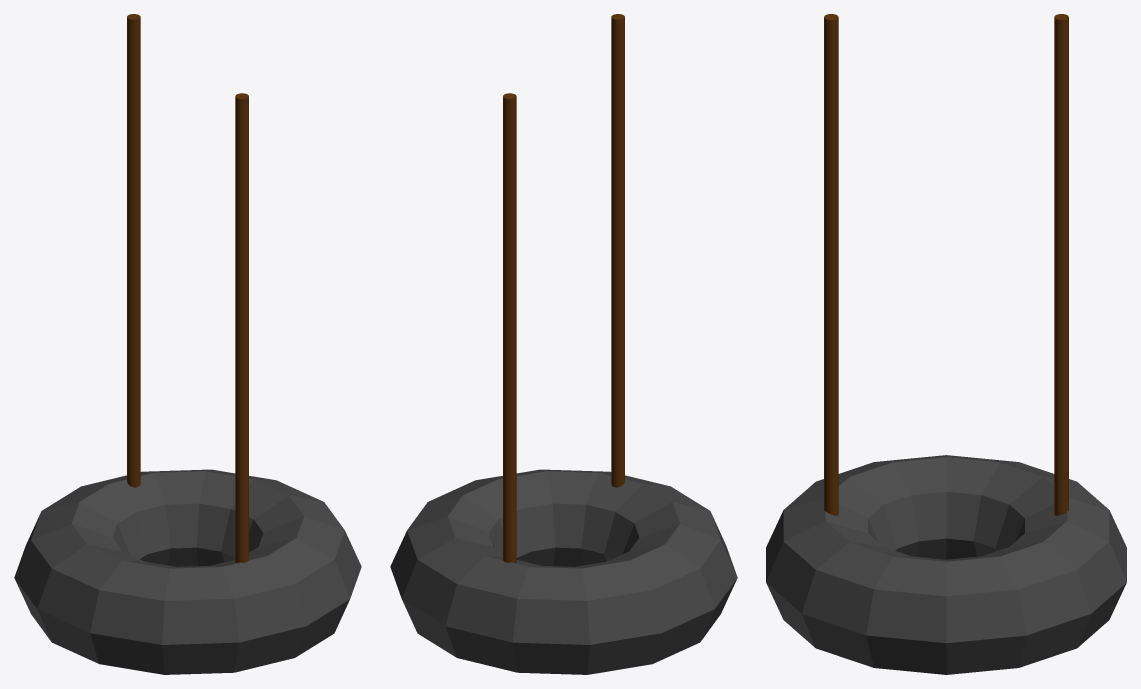
File: tire_swing.fbx
3 renders of one model, left to right at view 1: azimuth 30°, elevation 25°; view 2: azimuth 150°, elevation 25°; view 3: azimuth 270°, elevation 25°, orthographic. The views are drawn at different scales.
Parts seen in each view (by area): view 1: Torus.001, Cylinder, Cylinder.001; view 2: Torus.001, Cylinder.001, Cylinder; view 3: Torus.001, Cylinder, Cylinder.001.
Boxes of the visible parts, x1,y1,x2,y2 form: Torus.001: (14,469,361,674); Cylinder: (127,14,140,487); Cylinder.001: (235,93,248,562); Torus.001: (390,469,737,674); Cylinder.001: (611,14,624,487); Cylinder: (503,93,516,562); Torus.001: (766,455,1126,674); Cylinder: (1054,14,1068,515); Cylinder.001: (824,14,838,515).
Bounding box in the file's own units: 1286 × 2313 × 1254.
